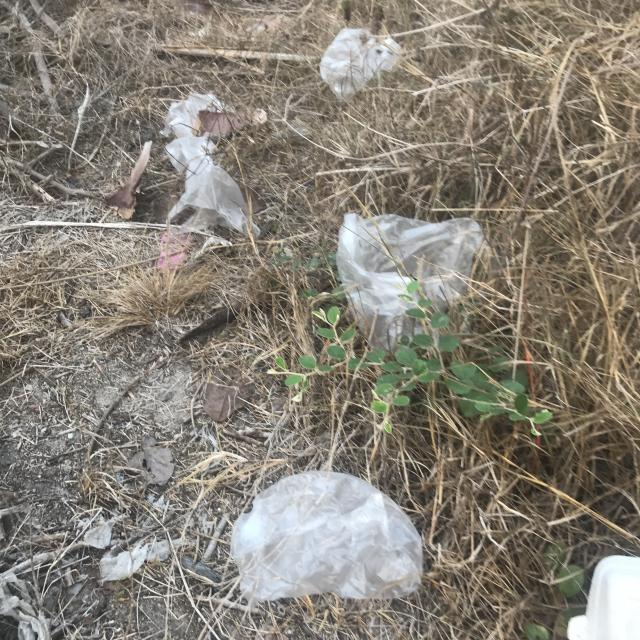Single-layer Plastic: (231, 471, 422, 604), (336, 214, 484, 352), (162, 92, 260, 234), (320, 29, 402, 99)
